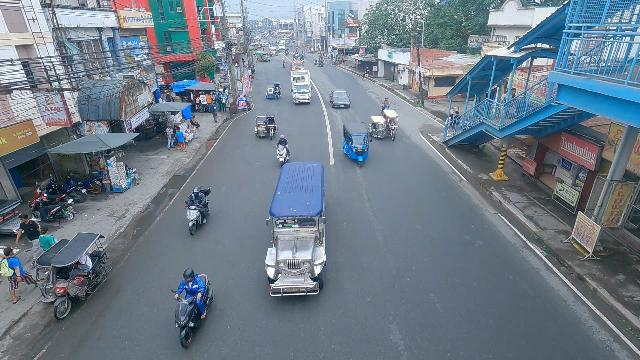car: (328, 88, 351, 110)
jeepney: (263, 160, 327, 307), (256, 50, 271, 62), (269, 47, 278, 57)
motorcycle: (173, 272, 213, 354), (184, 185, 212, 236), (275, 136, 290, 168), (382, 95, 392, 112), (299, 55, 305, 63), (282, 60, 286, 68), (295, 47, 299, 54), (285, 49, 288, 56)
truck: (289, 70, 312, 106)
